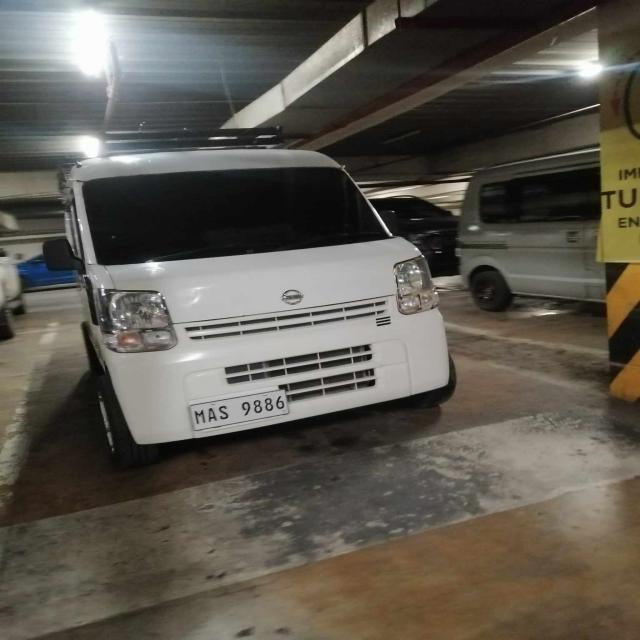license-plate: (188, 388, 292, 433)
